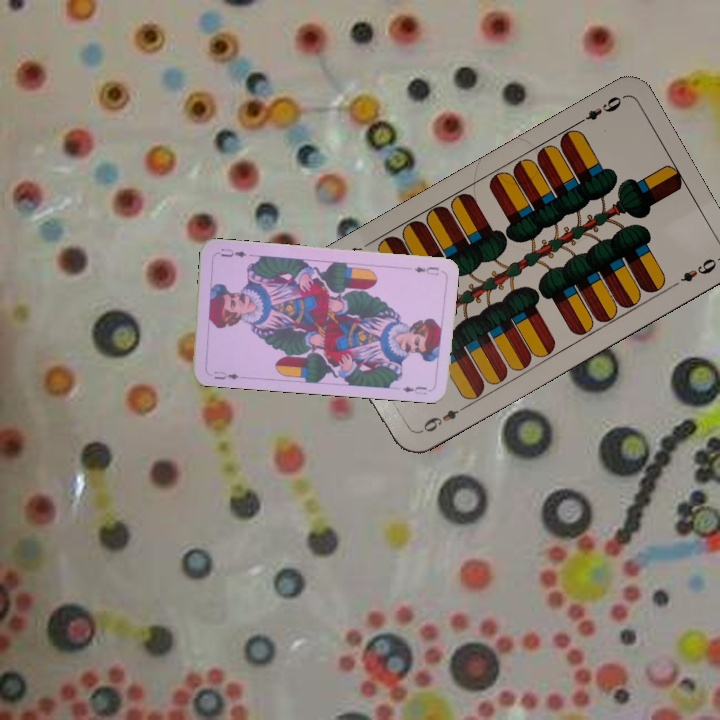E9: (572, 92, 626, 128), (415, 401, 469, 436)
EU: (410, 262, 442, 278), (210, 367, 242, 382)
